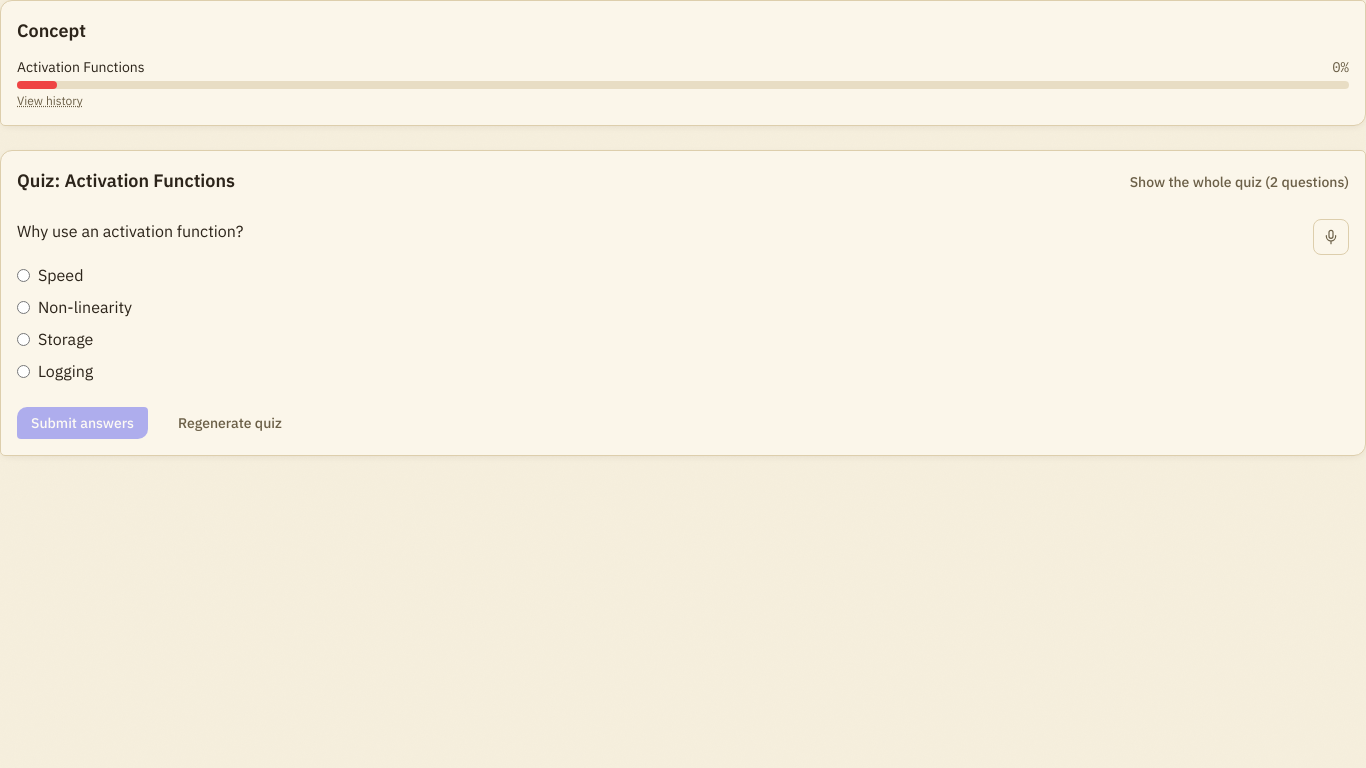
Test: QuizView focused on the concept picked on the material page › shows only that concept's questions, and can show the whole quiz
expect the heading "Quiz: Activation Functions" is shown: met, box [17,167,235,195]
expect the text "Why use an activation function?" is shown: met, box [17,219,244,243]
Step 1. Click the button "Show the whole quiz (2 questions)" → (1239, 182), box [1130,172,1349,192]
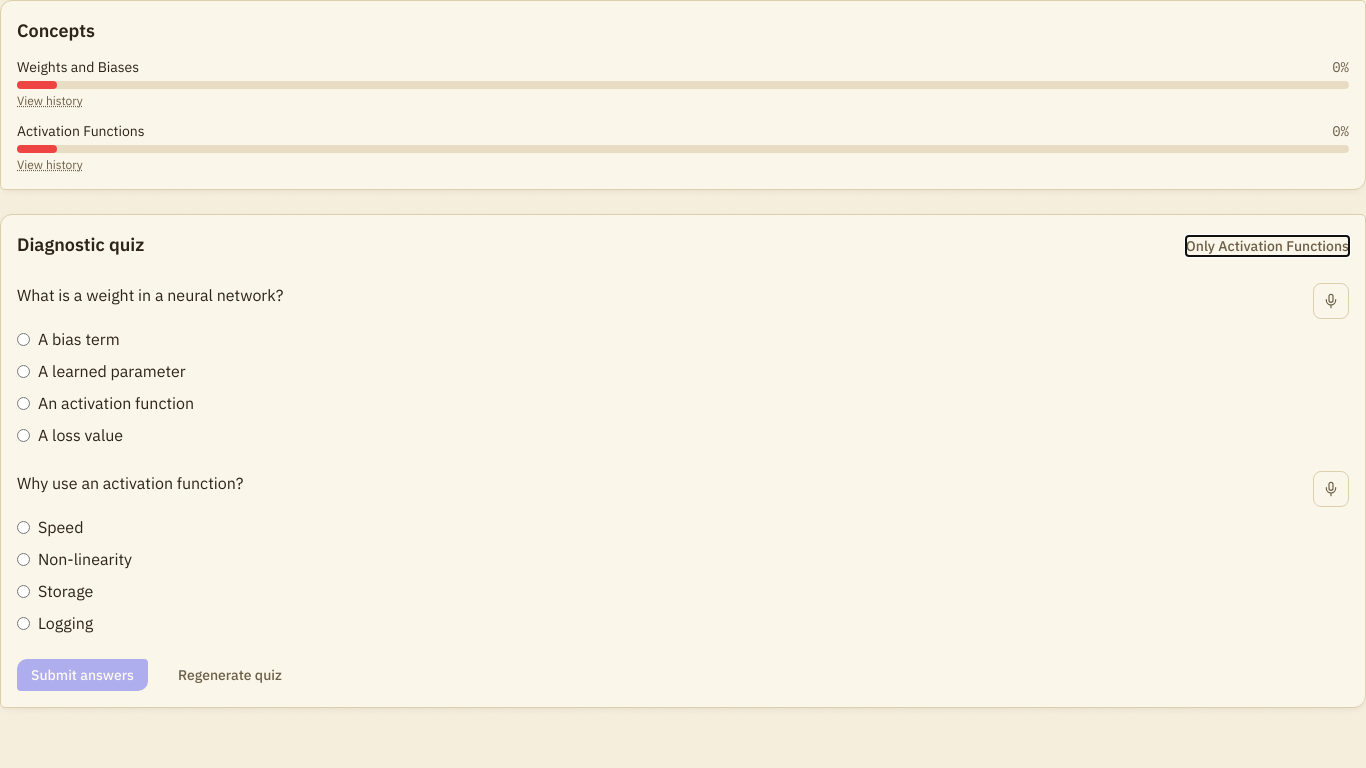
expect the text "What is a weight in a neural network?" is shown: met, box [17,283,283,307]
